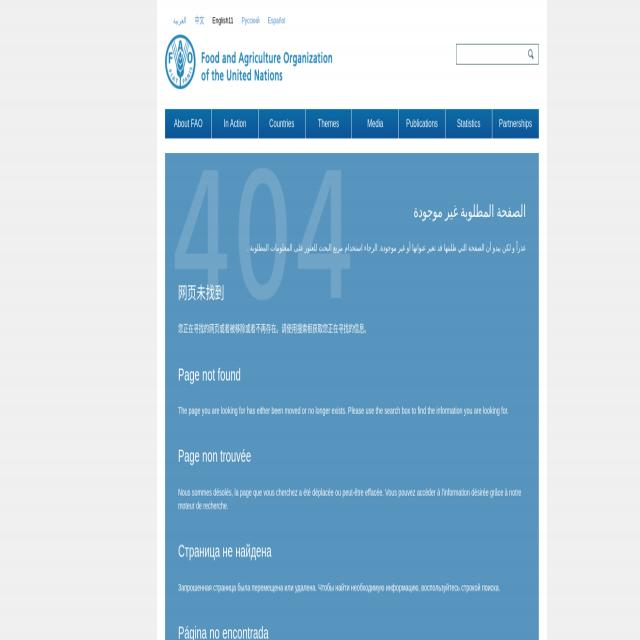button: (165, 33, 333, 90), (352, 109, 399, 139), (493, 109, 539, 139), (165, 109, 211, 139), (212, 109, 258, 139), (259, 109, 305, 139), (306, 109, 352, 139), (399, 109, 445, 139), (446, 109, 492, 139), (528, 49, 534, 59)
field: (456, 44, 539, 64)
